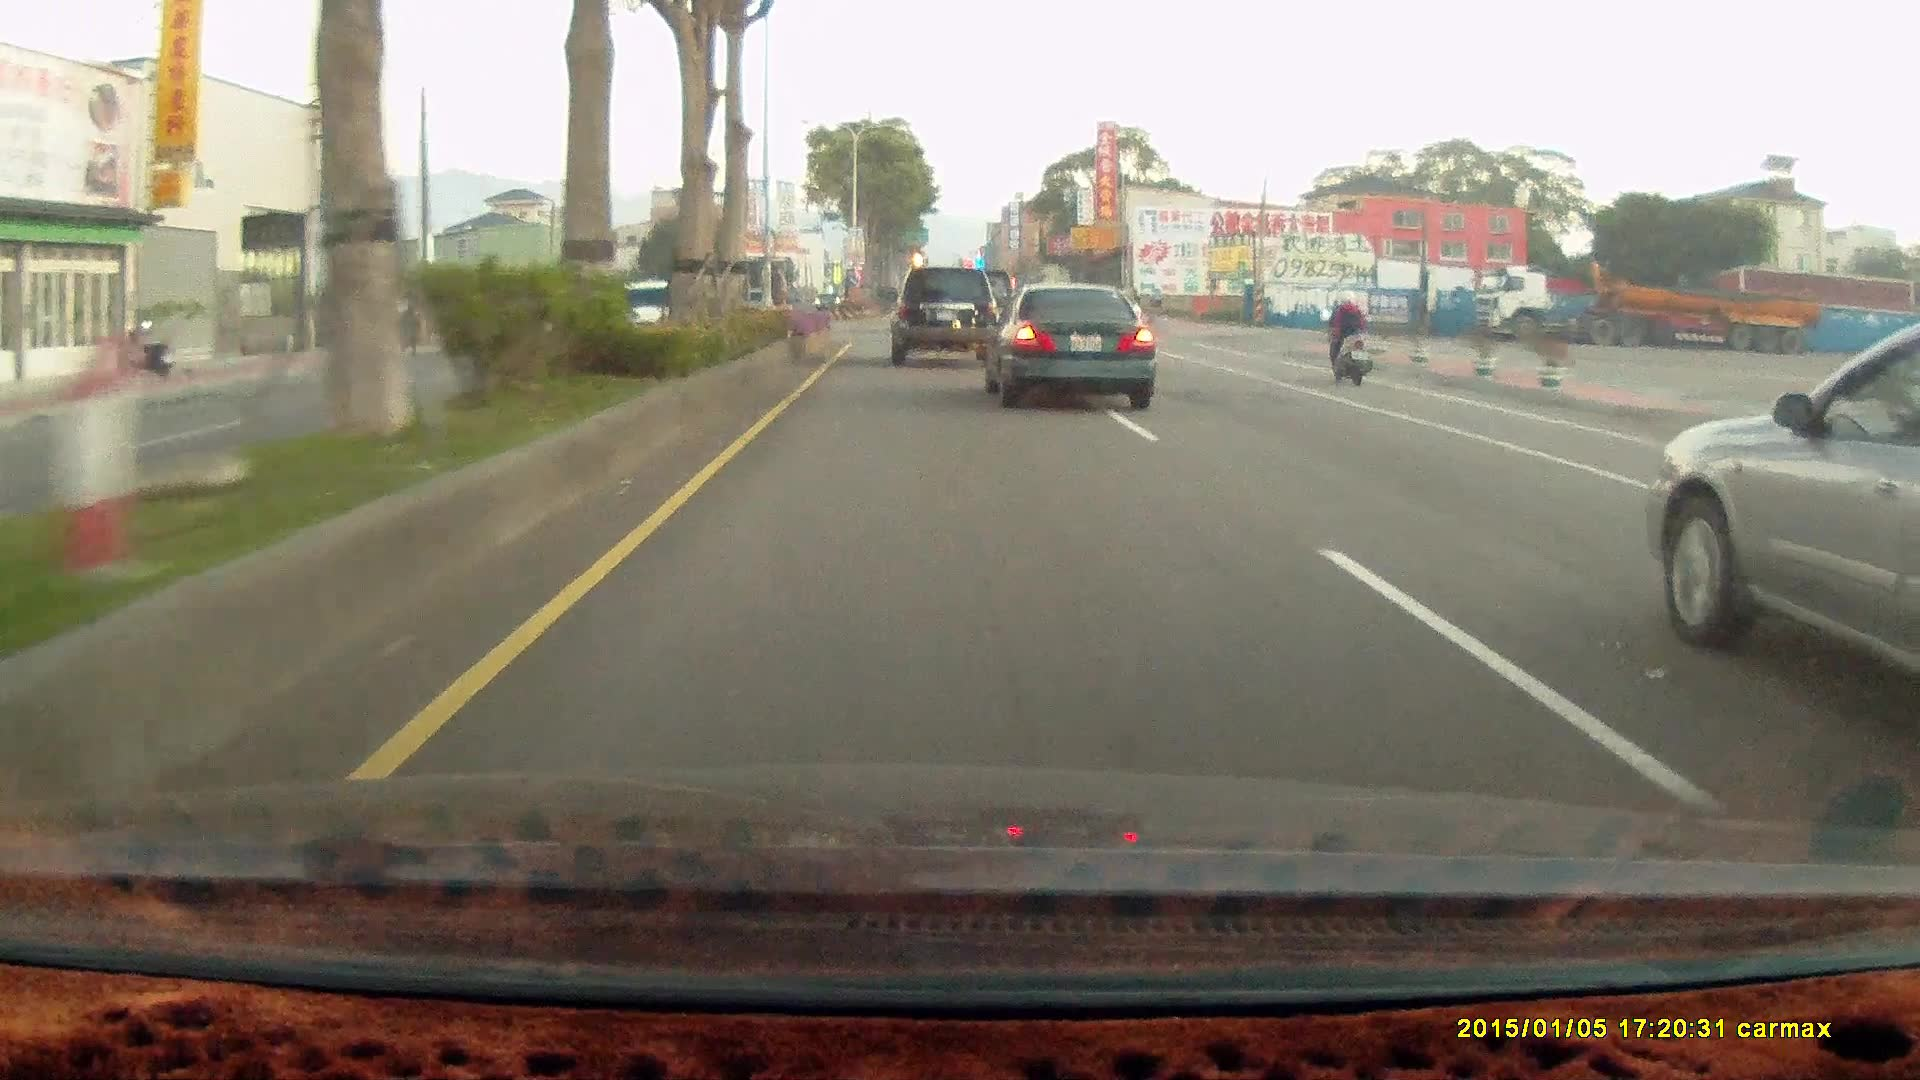pedestrian: (395, 301, 421, 360)
rider: (1315, 284, 1383, 393), (1317, 289, 1372, 386)
vehicle: (1647, 312, 1920, 698), (1468, 266, 1816, 353), (978, 279, 1155, 408), (981, 287, 1152, 409), (883, 270, 995, 371), (891, 264, 999, 367)
